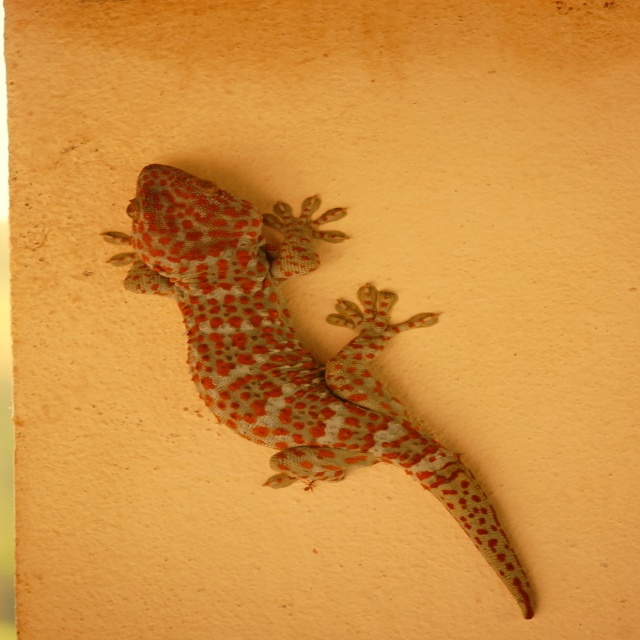Lizard: (104, 170, 546, 625)
